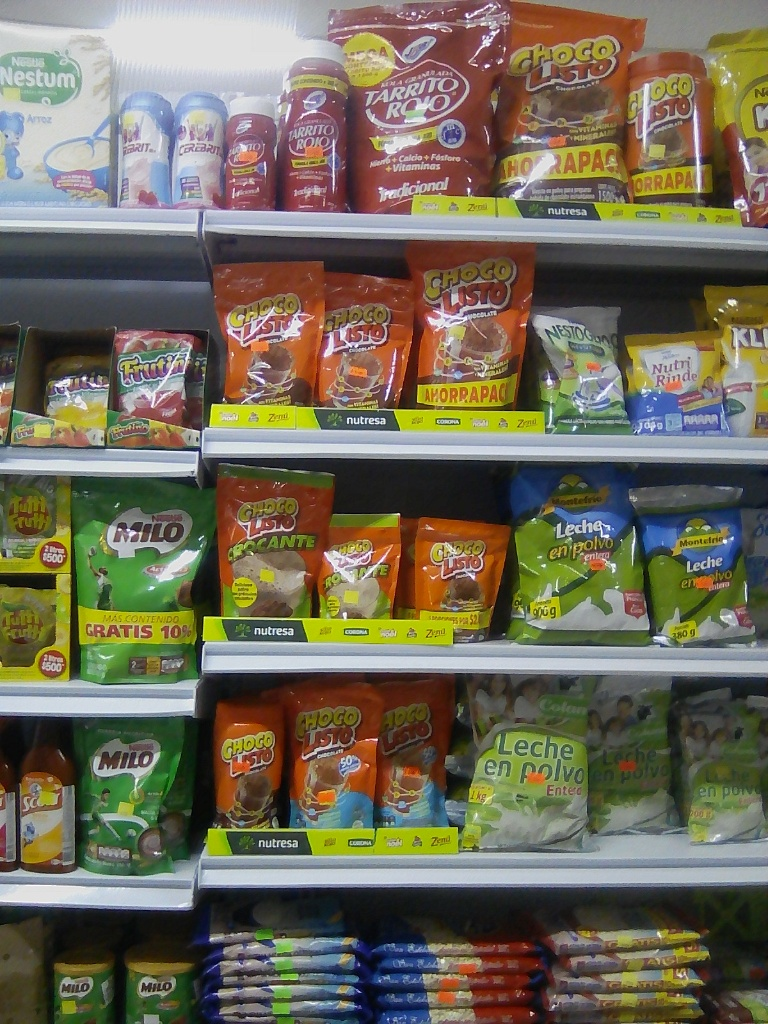COL0170102DYP10000: (313, 508, 407, 623)
COL0170102DYP50000: (210, 461, 329, 624)
COL0170103DYP1,500: (494, 3, 639, 212)
COL0170103DYP10000: (406, 511, 513, 642)
COL0170103DYP20000: (213, 253, 325, 408)
COL0170103DYP44000: (403, 239, 535, 422)
COL0170103TRR00100: (623, 44, 716, 214)
COL0170103TRR30000: (213, 701, 286, 831)
COL0170203DYP25000: (83, 716, 199, 878)
COL0170203LAT20000: (51, 956, 119, 1023)
COL0170203LAT40000: (118, 956, 192, 1023)
